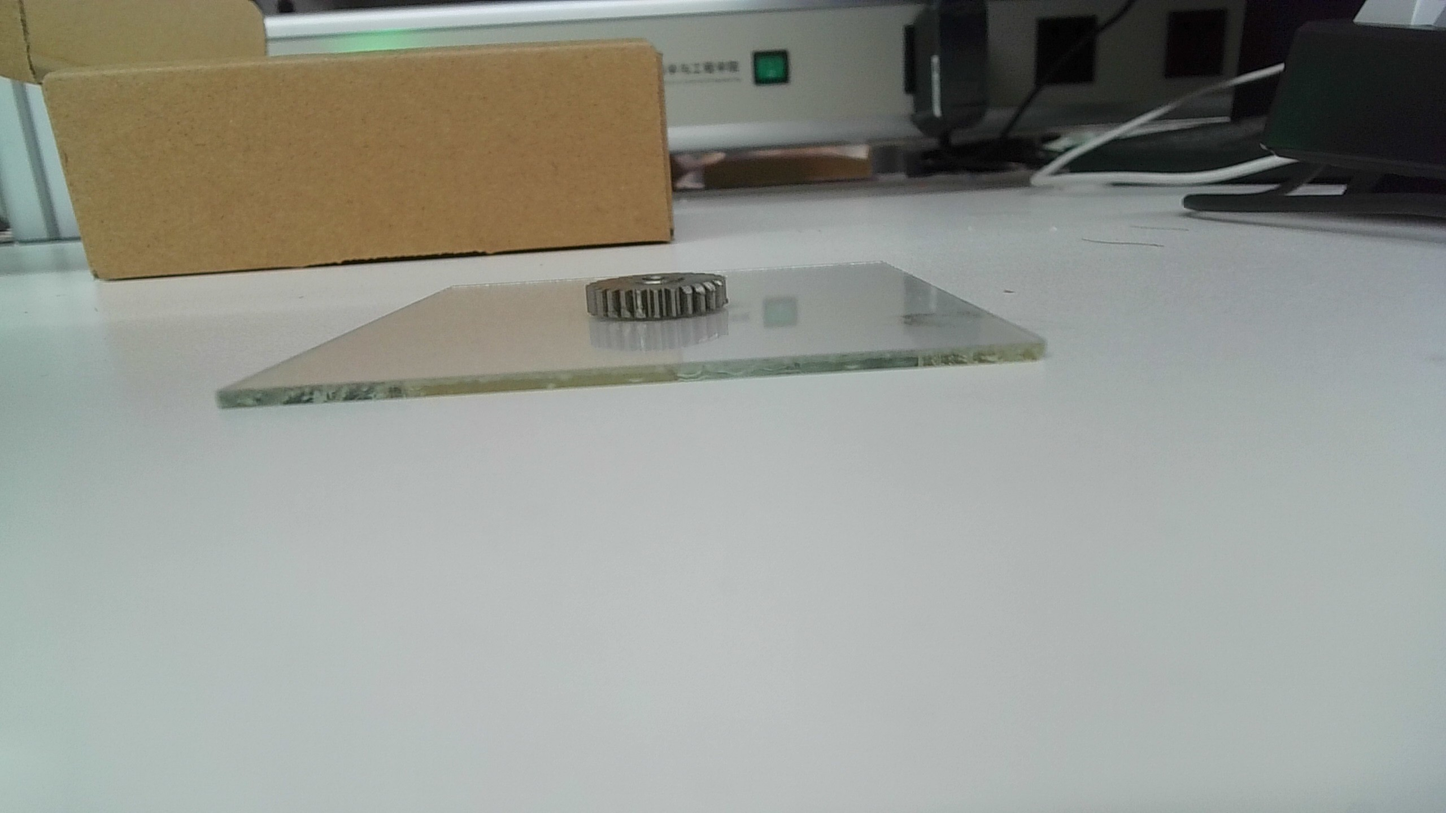gear: (584, 270, 729, 322)
